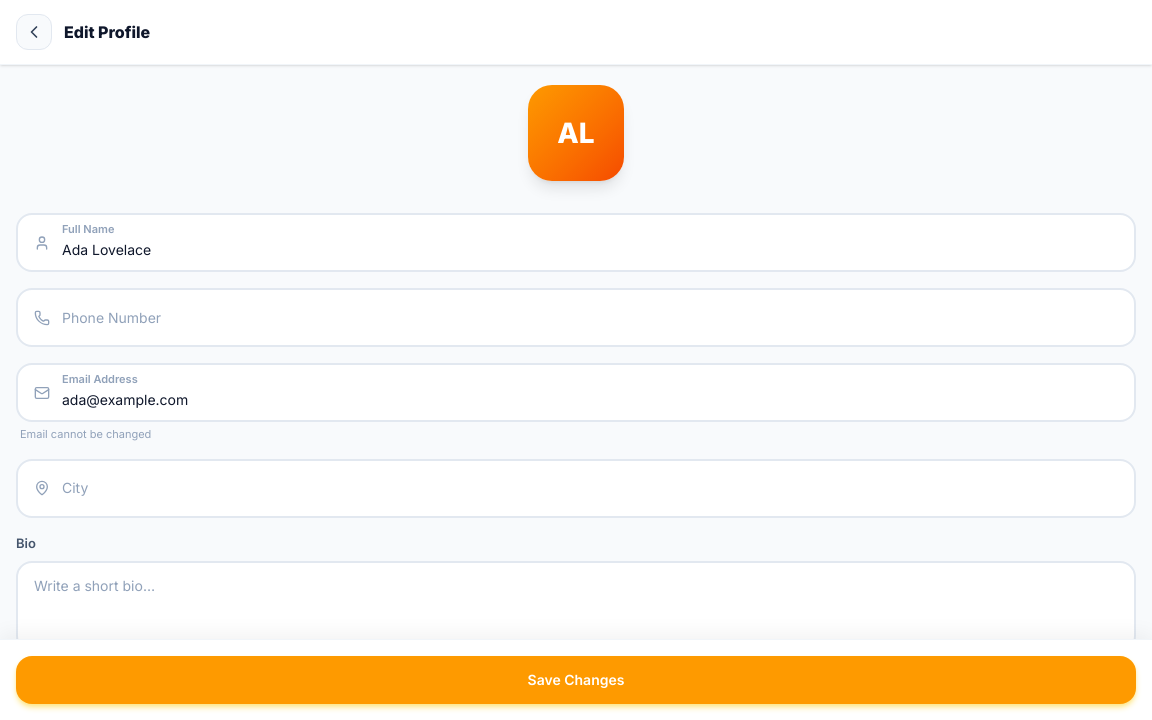
Test: EditProfilePage — Save Changes persists › shows a safe error on 400 (no raw backend payload in DOM)
Expected: the field showing "Ada Lovelace" is shown, [18,215,1134,270]
Click the button "Save Changes": {"x": 576, "y": 680} [16,656,1136,704]
(page scrolled)
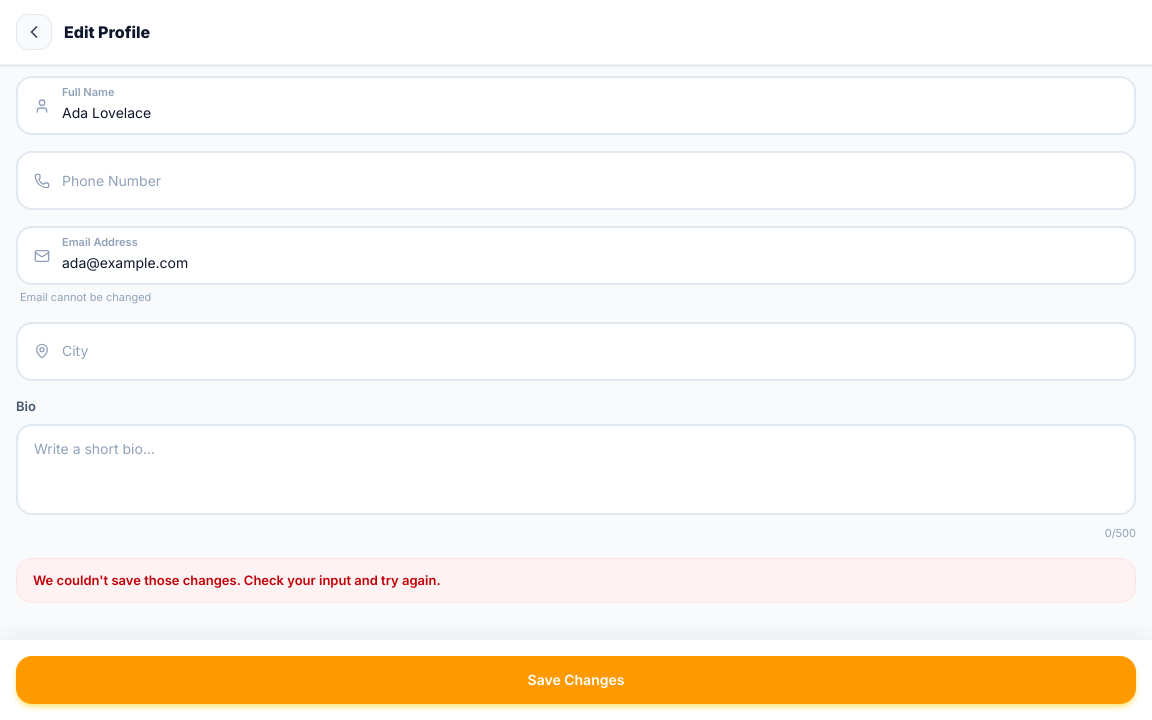
Now the text "We couldn't save those changes. Check your input and try again." is shown, box [16,558,1136,603]
